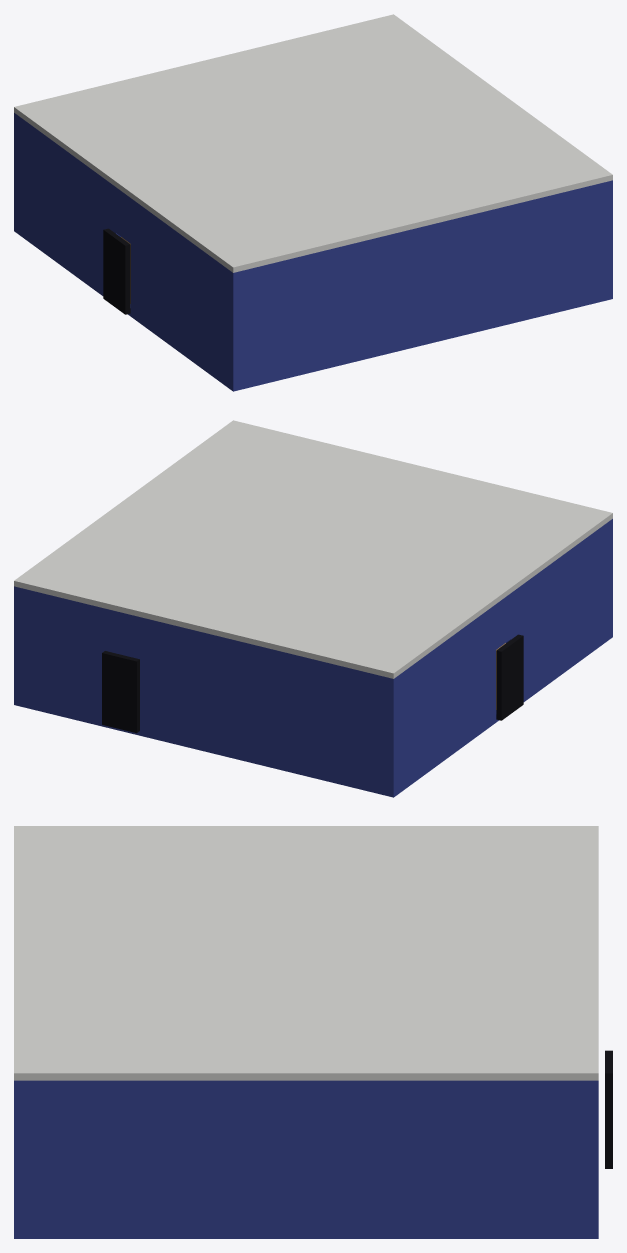
File: rdwe_anamorphic_room.glb
The picture shows the model from 3 angles, top to bottom: view 1: azimuth 30°, elevation 25°; view 2: azimuth 150°, elevation 25°; view 3: azimuth 270°, elevation 25°; orthographic projection. The views are drawn at different scales.
Parts seen in each view (by area): view 1: Room_Ceiling, Room_Wall_S_1, Room_Wall_W_3, Room_Wall_W_1, Room_Floor, Beyond_painted, Room_Wall_W_2; view 2: Room_Ceiling, Room_Wall_N_1, Room_Wall_W_1, Room_Wall_N_3, Room_Wall_W_3, Room_Floor, Beyond_word, Beyond_painted, Room_Wall_N_2, Room_Wall_W_2; view 3: Room_Ceiling, Room_Wall_E_1, Room_Floor, Room_Wall_N_3, Room_Wall_S_1, Beyond_word.
Part boxes in pixels (<box>): Room_Ceiling: <box>14,14,612,272</box>; Room_Wall_S_1: <box>230,180,612,383</box>; Room_Wall_W_3: <box>131,198,230,380</box>; Room_Wall_W_1: <box>17,115,120,287</box>; Room_Floor: <box>14,223,612,391</box>; Beyond_painted: <box>103,228,130,314</box>; Room_Wall_W_2: <box>116,187,130,243</box>; Room_Ceiling: <box>14,420,612,678</box>; Room_Wall_N_1: <box>136,616,396,789</box>; Room_Wall_W_1: <box>396,604,495,786</box>; Room_Wall_N_3: <box>14,586,113,717</box>; Room_Wall_W_3: <box>506,521,609,693</box>; Room_Floor: <box>14,629,612,797</box>; Beyond_word: <box>102,651,139,733</box>; Beyond_painted: <box>496,634,523,720</box>; Room_Wall_N_2: <box>113,610,135,658</box>; Room_Wall_W_2: <box>496,593,510,649</box>; Room_Ceiling: <box>14,826,598,1080</box>; Room_Wall_E_1: <box>22,1080,590,1227</box>; Room_Floor: <box>14,1228,598,1238</box>; Room_Wall_N_3: <box>590,1080,598,1227</box>; Room_Wall_S_1: <box>14,1080,21,1227</box>; Beyond_word: <box>605,1050,612,1168</box>.
Bounding box in the file's own units: 14.75 × 4.5 × 14.75.
